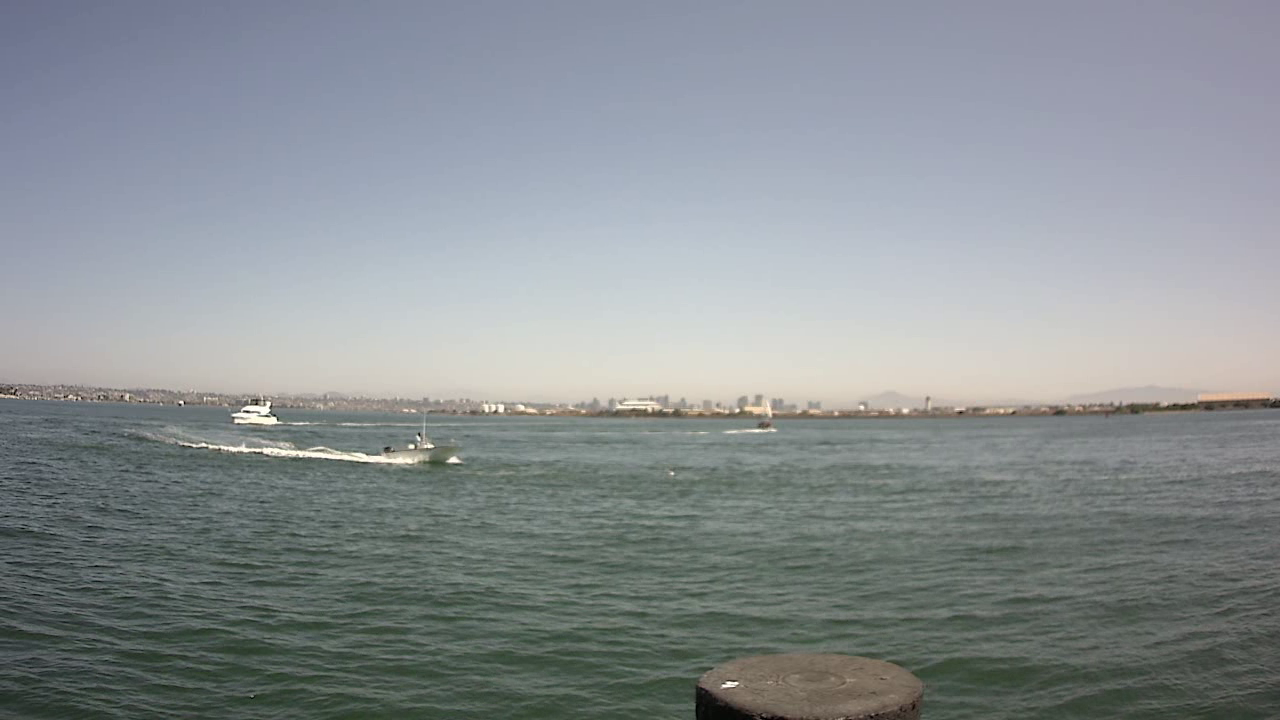target: (374, 408, 463, 475)
